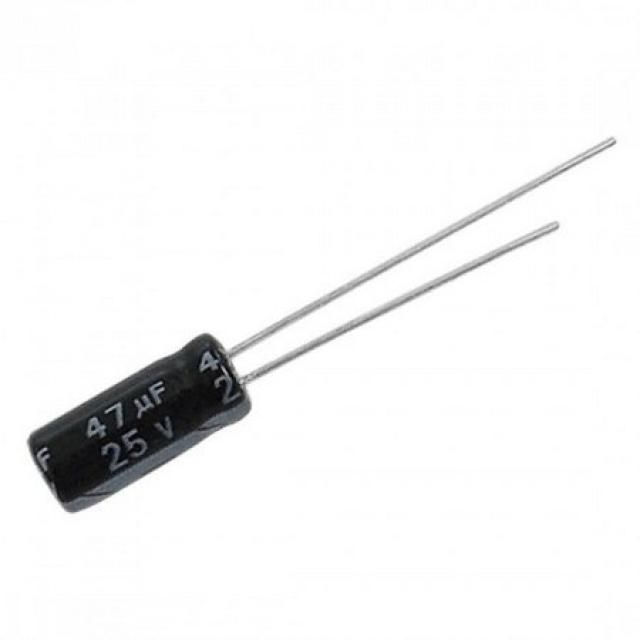Capacitor: (27, 139, 617, 516)
